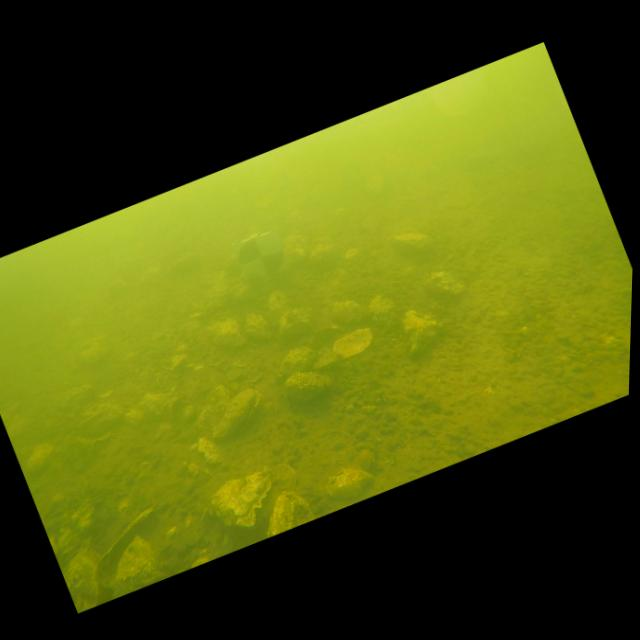Oyster-Closed: (212, 469, 272, 526), (209, 386, 255, 441), (267, 490, 315, 536), (78, 402, 124, 441), (326, 467, 374, 499), (285, 371, 331, 401), (392, 232, 436, 261), (425, 270, 465, 300), (279, 346, 319, 375), (279, 308, 311, 341), (208, 317, 244, 346), (368, 294, 396, 326), (140, 392, 179, 414), (332, 300, 369, 323), (245, 313, 271, 340), (27, 442, 53, 469), (267, 289, 288, 317)
Oyster-Indeterminate: (112, 535, 166, 597), (63, 539, 101, 612), (194, 380, 231, 430), (402, 309, 441, 354), (78, 334, 110, 364)
Oyster-Open: (95, 507, 156, 585), (313, 328, 372, 368)
